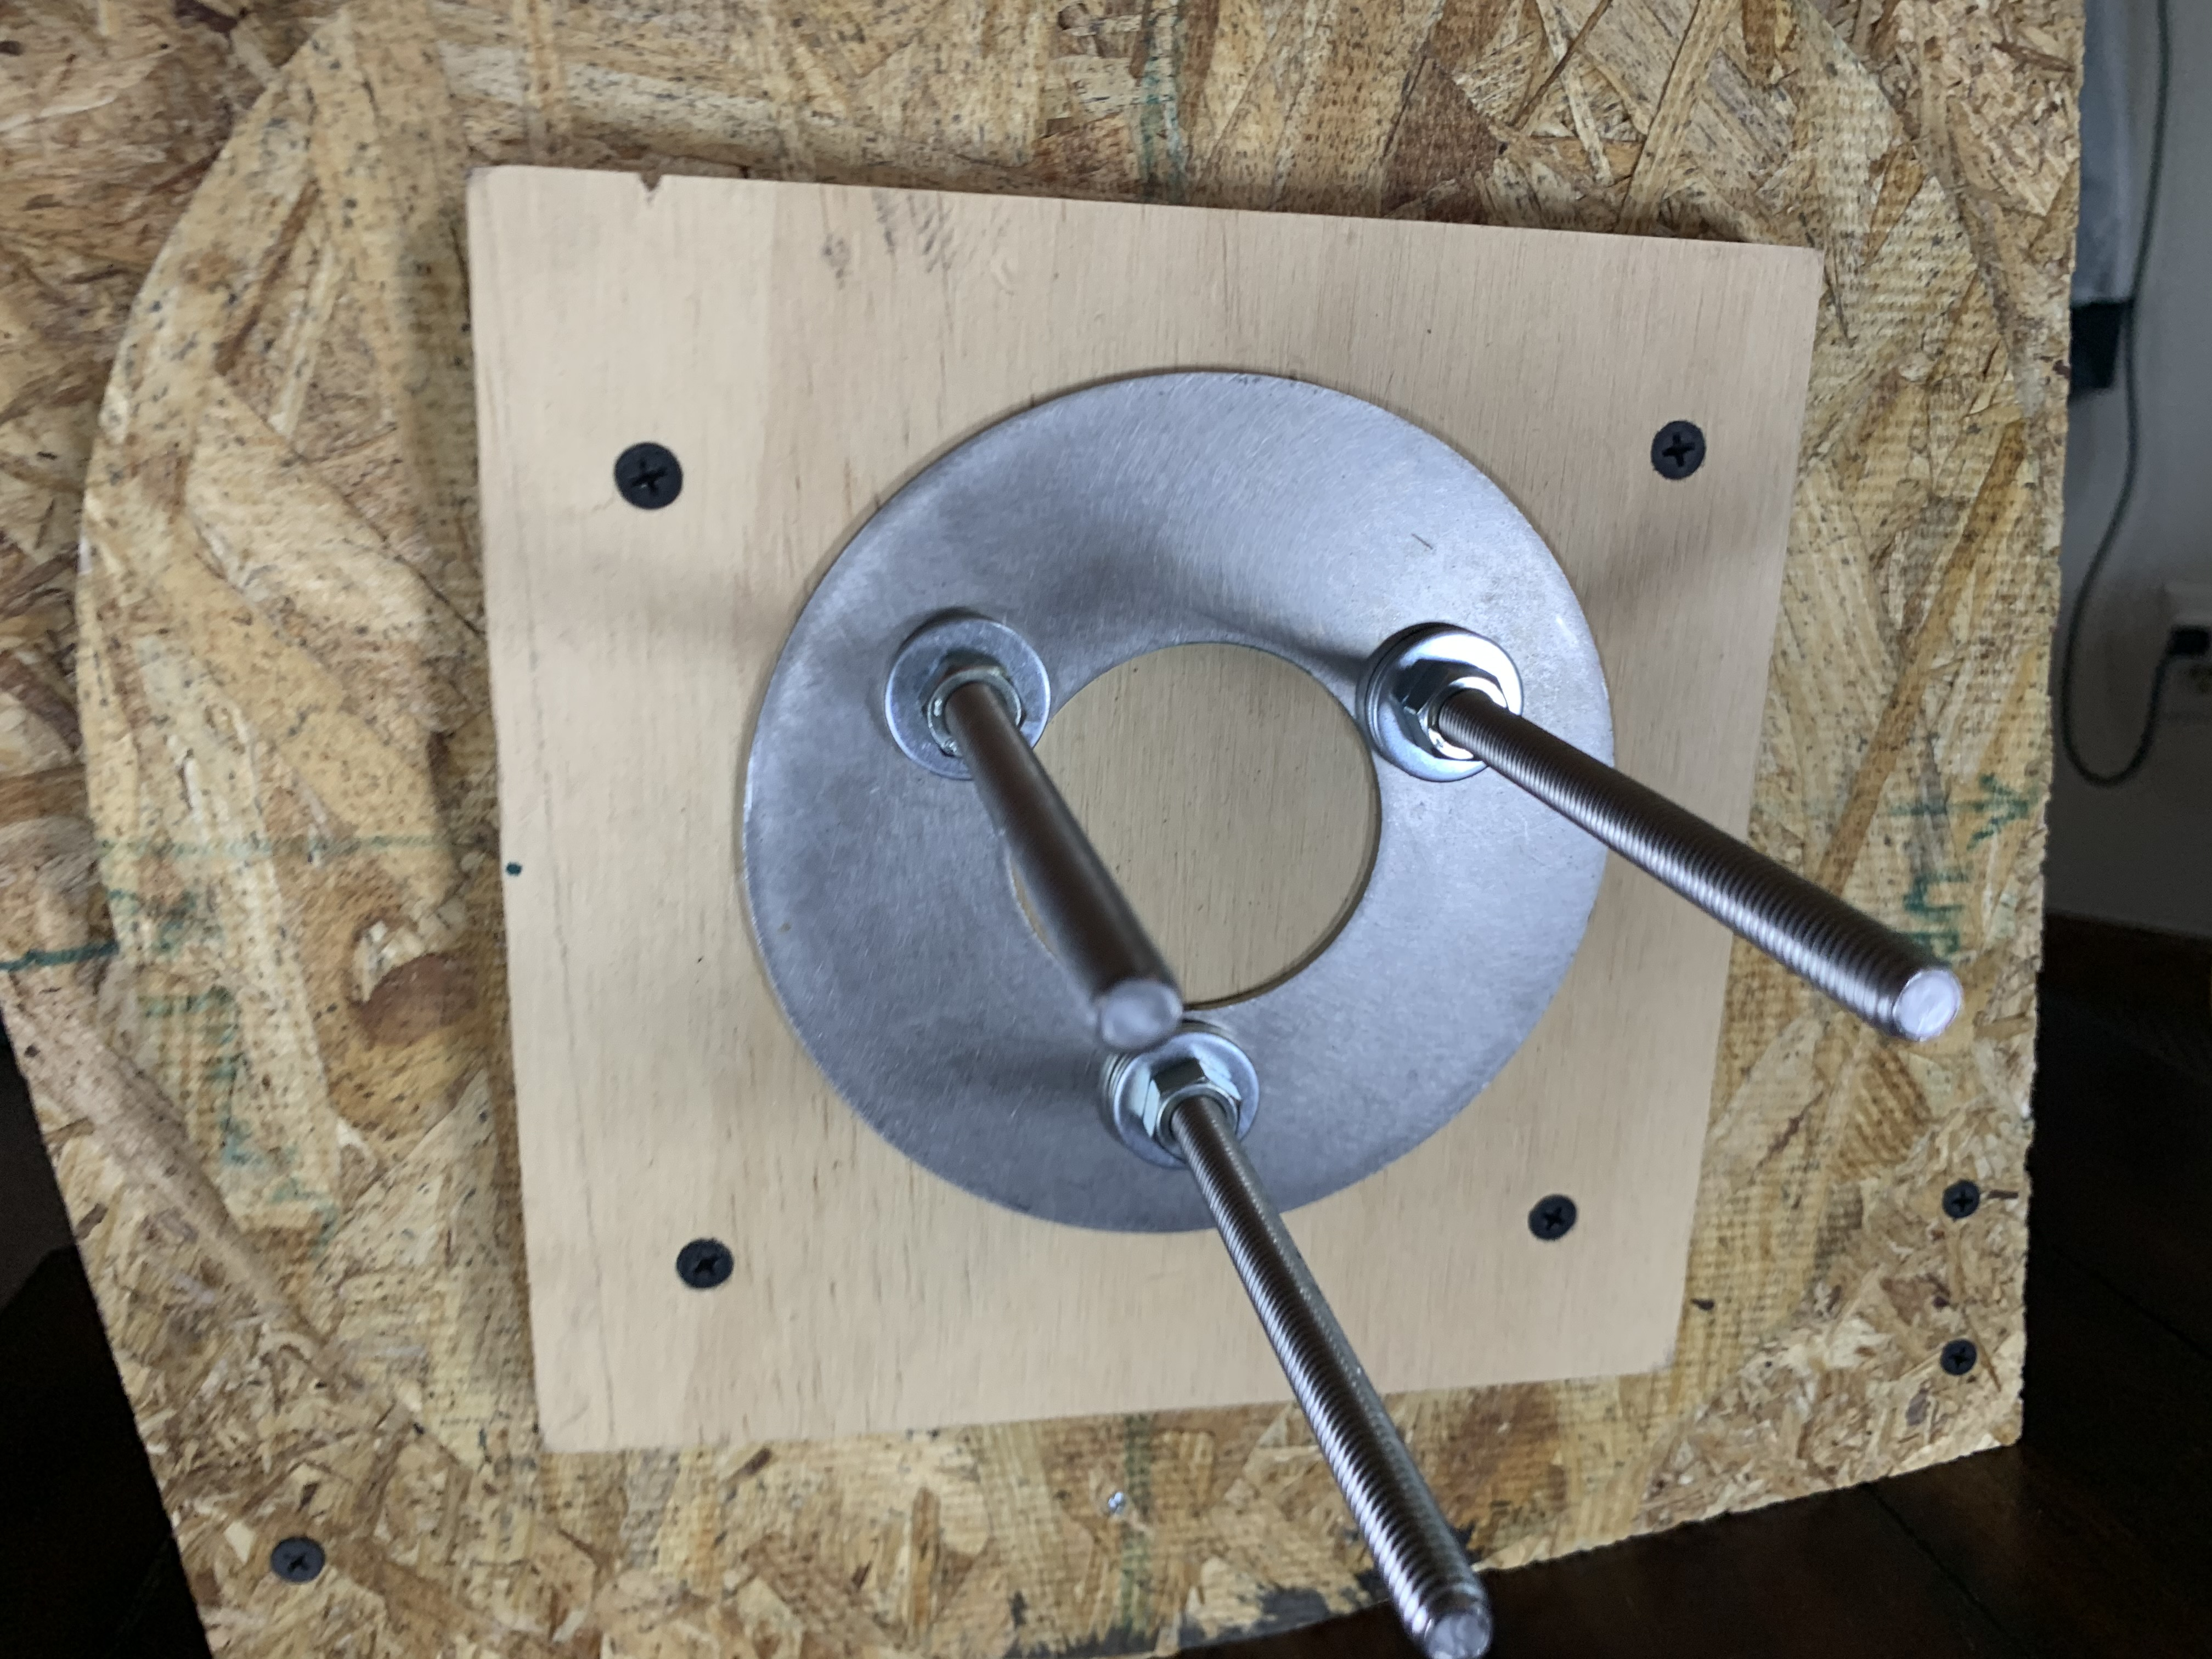bolt: (881, 613, 1054, 781), (1362, 622, 1526, 788), (1096, 1023, 1264, 1175)
